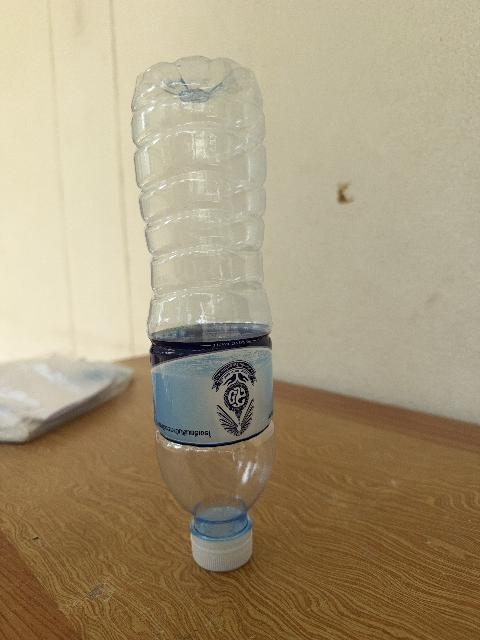bottle: (133, 57, 275, 570)
